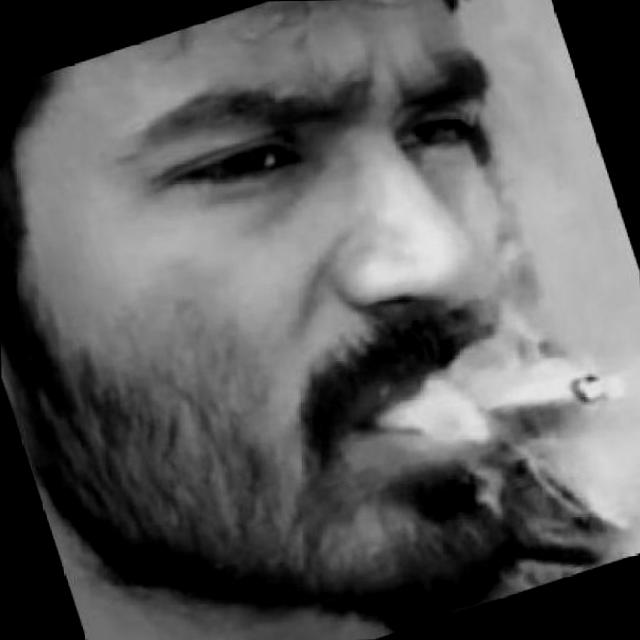cigarette: (438, 335, 628, 460)
